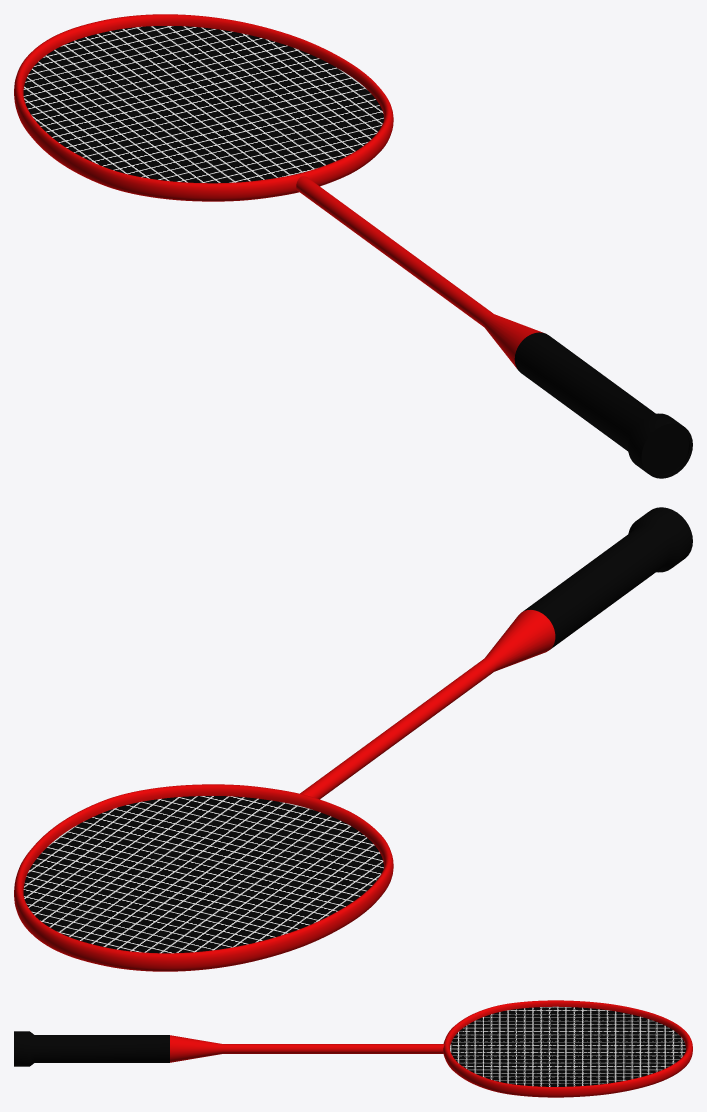
File: raquete.fbx
3 renders of one model, top to bottom at view 1: azimuth 30°, elevation 25°; view 2: azimuth 150°, elevation 25°; view 3: azimuth 270°, elevation 25°, orthographic. The views are drawn at different scales.
Parts seen in each view (by area): view 1: rede, aro, empunhadura, cabo, plastico; view 2: rede, aro, empunhadura, cabo; view 3: rede, aro, empunhadura, cabo.
Boxes of the visible parts, x1,y1,x2,y2 form: rede: [23, 26, 383, 183]; aro: [14, 14, 393, 201]; empunhadura: [514, 332, 681, 472]; cabo: [296, 176, 542, 368]; plastico: [640, 422, 692, 478]; rede: [23, 796, 383, 953]; aro: [14, 784, 393, 971]; empunhadura: [523, 508, 691, 649]; cabo: [300, 610, 555, 799]; rede: [450, 1006, 685, 1086]; aro: [443, 1000, 692, 1097]; empunhadura: [16, 1031, 169, 1066]; cabo: [170, 1035, 444, 1062].
Bounding box in the file's own units: 20.97 × 3.5 × 67.81.
